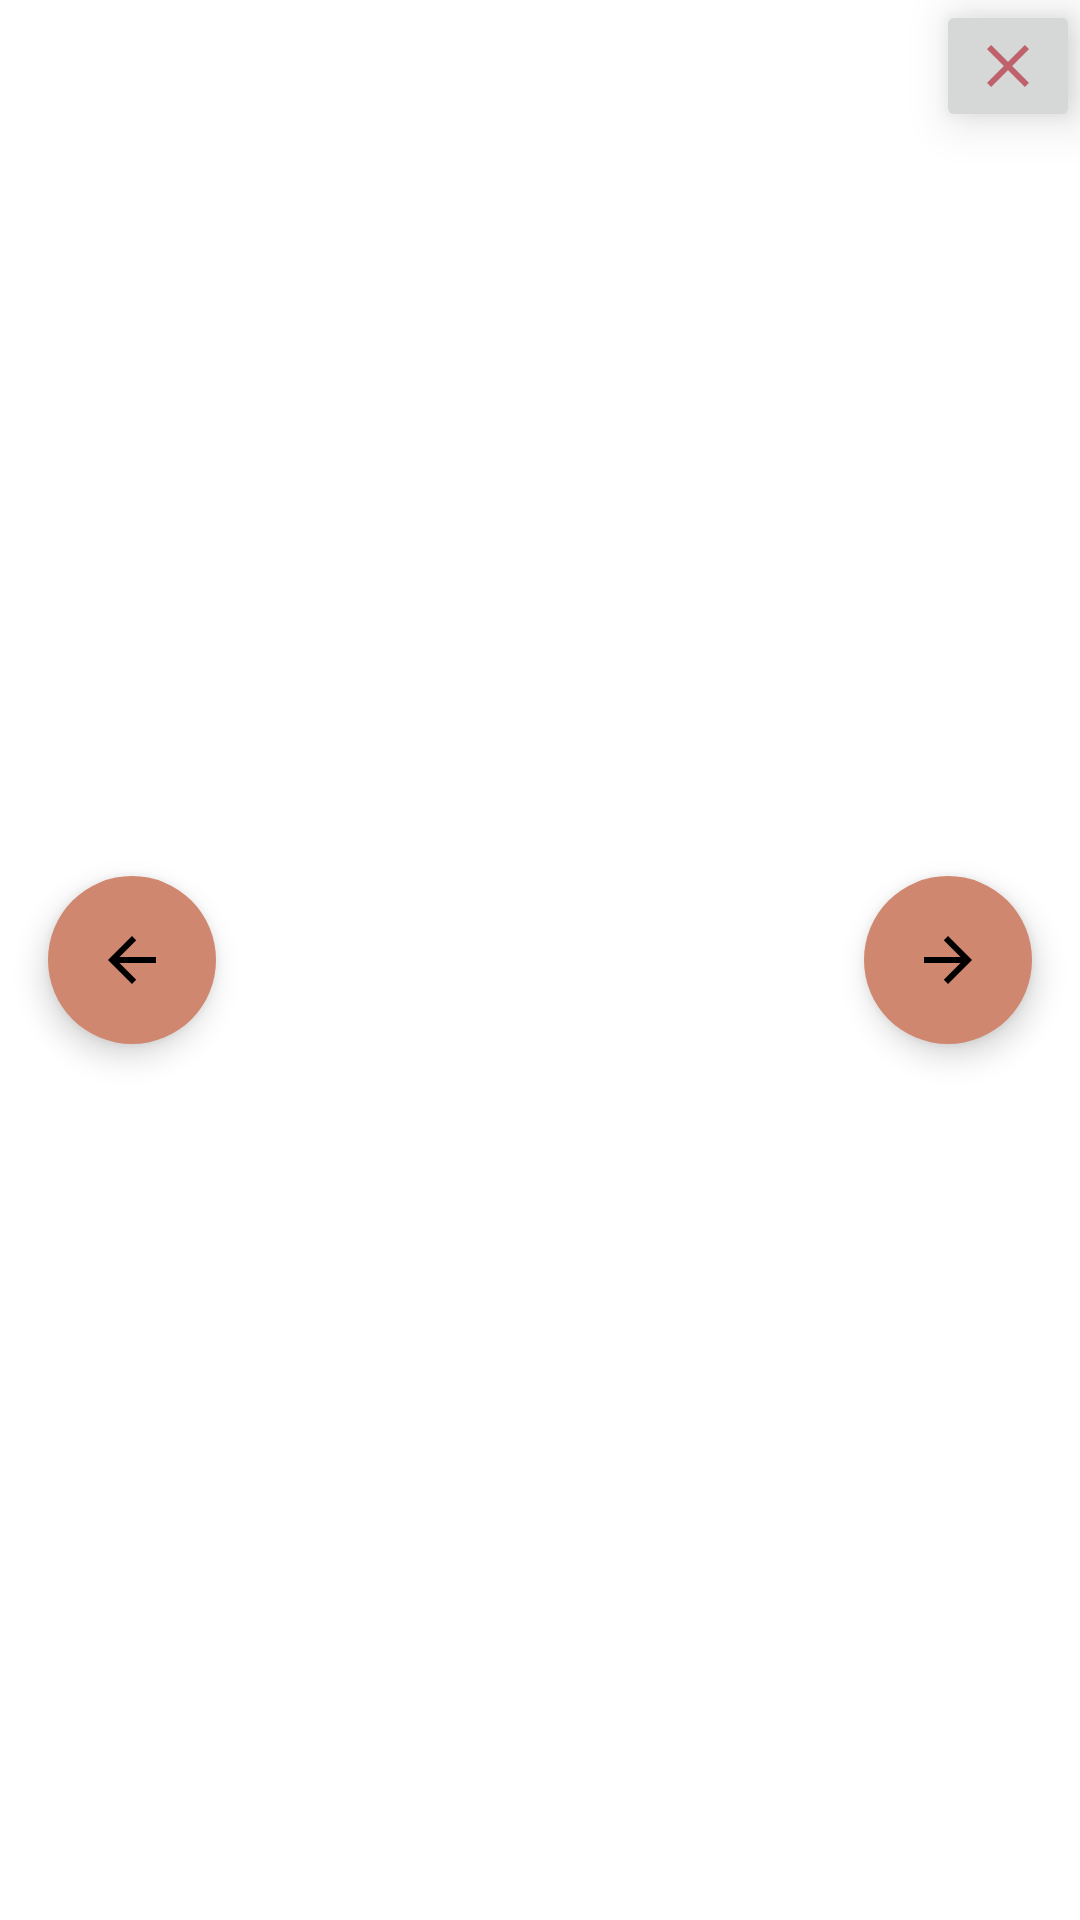

Screen size 1080x1920. Icon name, then its center in pixels as (x,y):
arrow back: (132,960)
arrow forward: (948,960)
Close: (1008,66)
